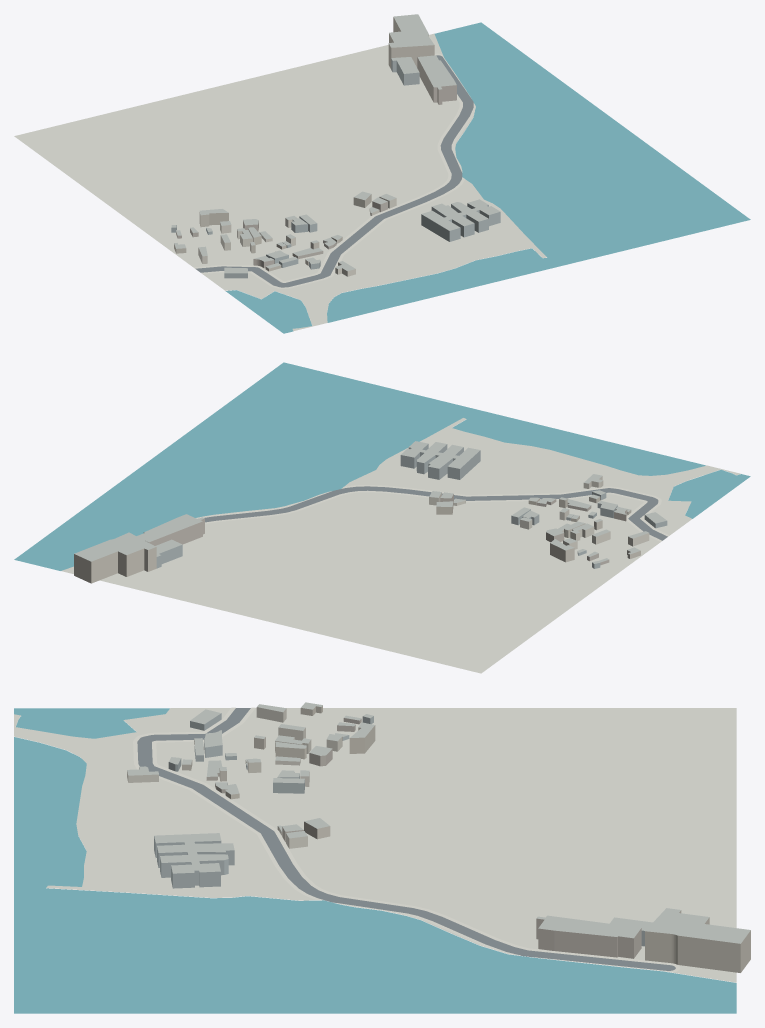
The picture shows the model from 3 angles, top to bottom: view 1: azimuth 30°, elevation 25°; view 2: azimuth 150°, elevation 25°; view 3: azimuth 270°, elevation 25°; orthographic projection. The views are drawn at different scales.
Visible parts, largest first — view 1: city; view 2: city; view 3: city.
Part boxes in pixels (box(x1,y1,x2,y2)): city: box(14, 14, 750, 333); city: box(14, 362, 750, 673); city: box(14, 702, 750, 1013).
Size of the model in its own units: 500 by 22.58 by 510.
